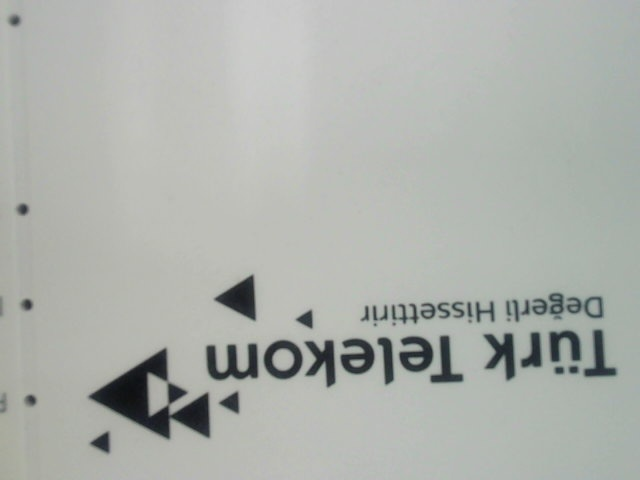AQ_TURKTelekom: (63, 271, 620, 453)
